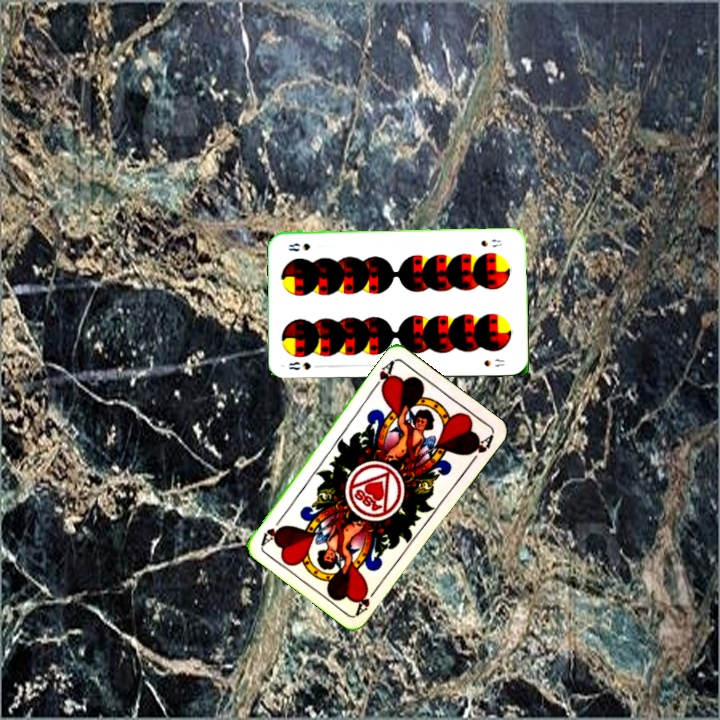HA: (352, 581, 382, 617), (369, 356, 397, 394)
S8: (477, 235, 505, 250), (285, 357, 313, 372)
